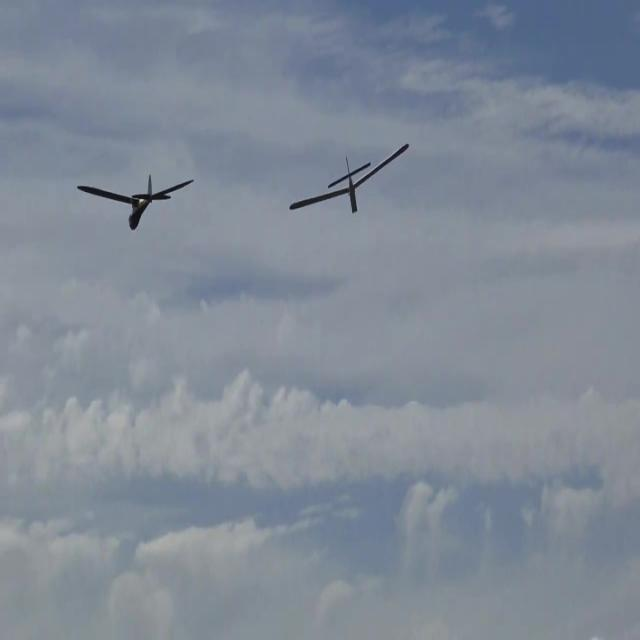iha: (100, 166, 157, 228), (320, 175, 378, 180)
